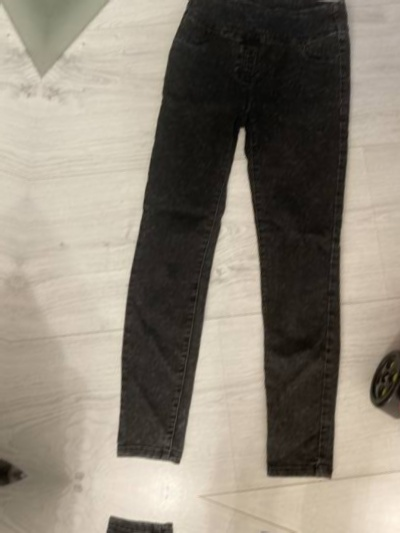Pants: (85, 0, 390, 485), (20, 510, 326, 533)
